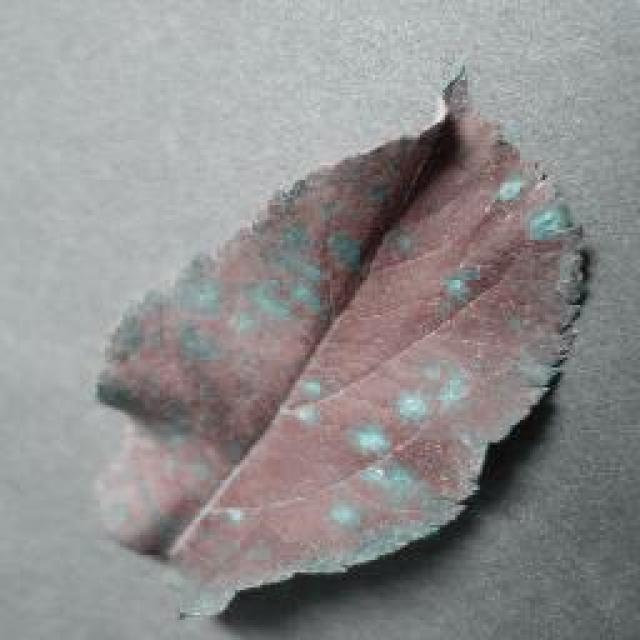apple rust disease: (90, 62, 590, 618)
